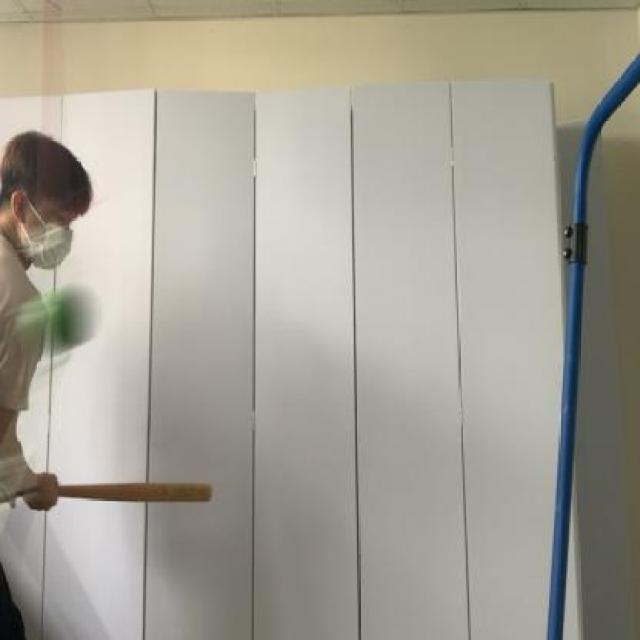baseball: (9, 274, 109, 374)
